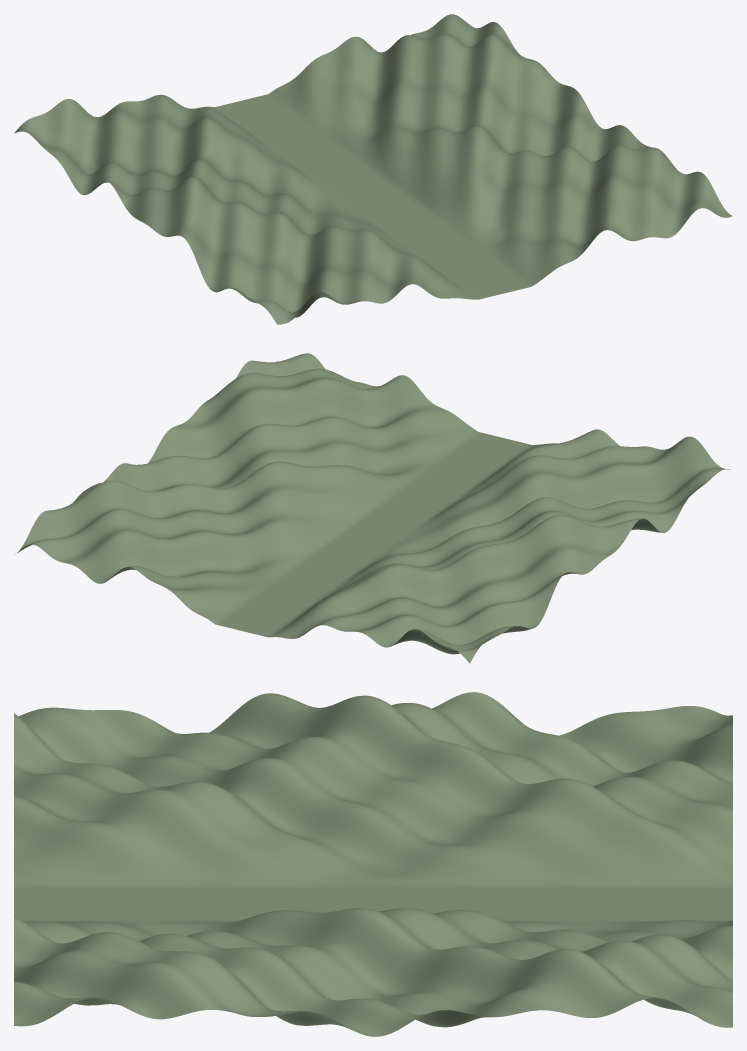
The model's file is terrain.glb.
3 renders of one model, top to bottom at view 1: azimuth 30°, elevation 25°; view 2: azimuth 150°, elevation 25°; view 3: azimuth 270°, elevation 25°, orthographic. The views are drawn at different scales.
Visible parts, largest first — view 1: MountainLandscape; view 2: MountainLandscape; view 3: MountainLandscape.
Part boxes in pixels (x1,y1,x2,y2): MountainLandscape: (14,14,732,324); MountainLandscape: (16,353,730,663); MountainLandscape: (14,692,732,1036).
Bounding box in the file's own units: 2000 × 260 × 2000.
